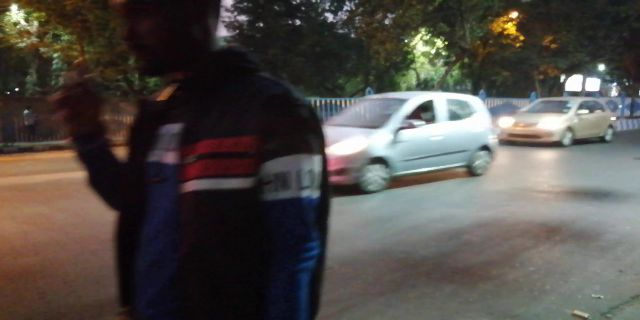Car: (336, 86, 495, 186), (512, 92, 622, 148)
